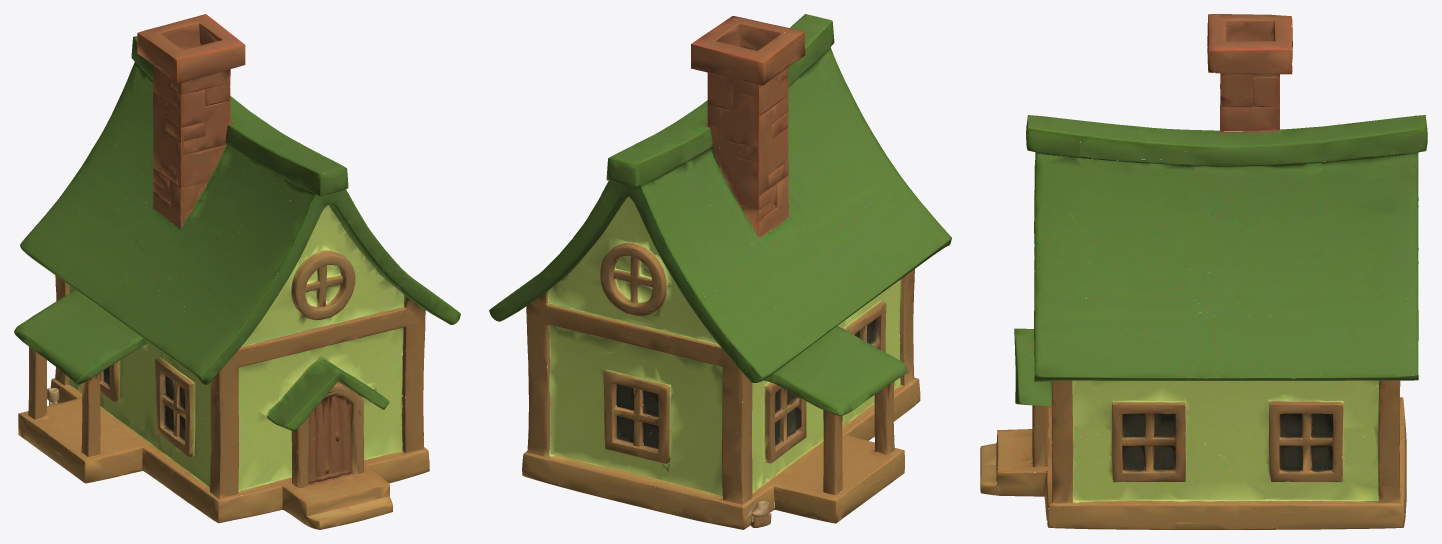
Rendered from AH_ENV_CottageTimber_Soft_LOD3_v01.glb.
The picture shows the model from 3 angles, left to right: view 1: azimuth 30°, elevation 25°; view 2: azimuth 150°, elevation 25°; view 3: azimuth 270°, elevation 25°; orthographic projection. The views are drawn at different scales.
Visible parts, largest first — view 1: tripo_node_3f3ccc38-b5d9-4f5f-972d-f2031947ce98; view 2: tripo_node_3f3ccc38-b5d9-4f5f-972d-f2031947ce98; view 3: tripo_node_3f3ccc38-b5d9-4f5f-972d-f2031947ce98.
Part boxes in pixels (box(x1,y1,x2,y2)): tripo_node_3f3ccc38-b5d9-4f5f-972d-f2031947ce98: box(14, 14, 460, 529); tripo_node_3f3ccc38-b5d9-4f5f-972d-f2031947ce98: box(489, 14, 951, 529); tripo_node_3f3ccc38-b5d9-4f5f-972d-f2031947ce98: box(980, 14, 1427, 529).
Bounding box in the file's own units: 0.7708 × 0.9802 × 0.9304.
Materials: 1 (1 with a texture image).
